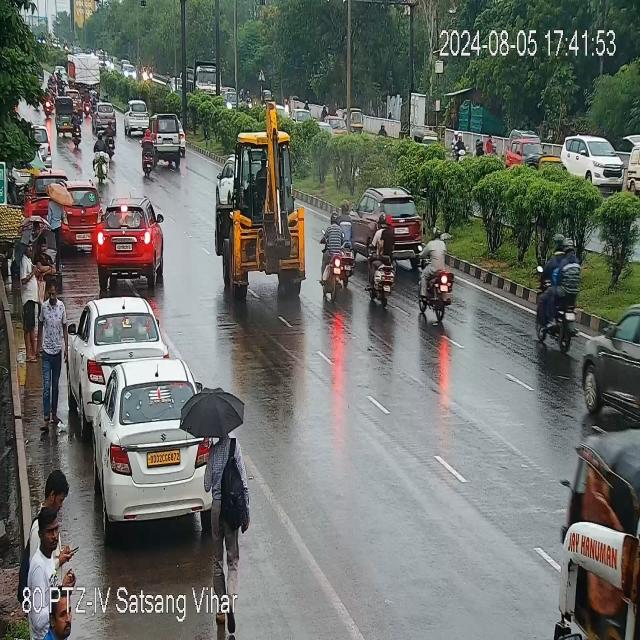2-wheelers: (536, 241, 583, 352), (412, 230, 459, 322), (322, 203, 367, 293), (365, 221, 400, 305), (92, 138, 116, 188), (449, 122, 466, 166), (43, 77, 57, 128)
auto: (550, 423, 639, 640), (57, 93, 84, 142), (344, 104, 365, 137)
bus: (221, 114, 312, 293)
car: (69, 358, 219, 531), (67, 294, 166, 417), (580, 302, 636, 442), (94, 199, 165, 281), (351, 188, 422, 253), (564, 131, 628, 184), (60, 188, 100, 248), (506, 132, 542, 179), (150, 126, 188, 168), (123, 109, 153, 138), (91, 103, 119, 133), (316, 120, 352, 138)
pedestrian: (199, 394, 248, 629), (40, 525, 80, 640), (35, 286, 68, 402), (19, 240, 39, 368), (39, 229, 58, 291), (42, 467, 70, 509), (45, 187, 62, 252)
truck: (63, 51, 102, 94), (186, 58, 221, 96)
